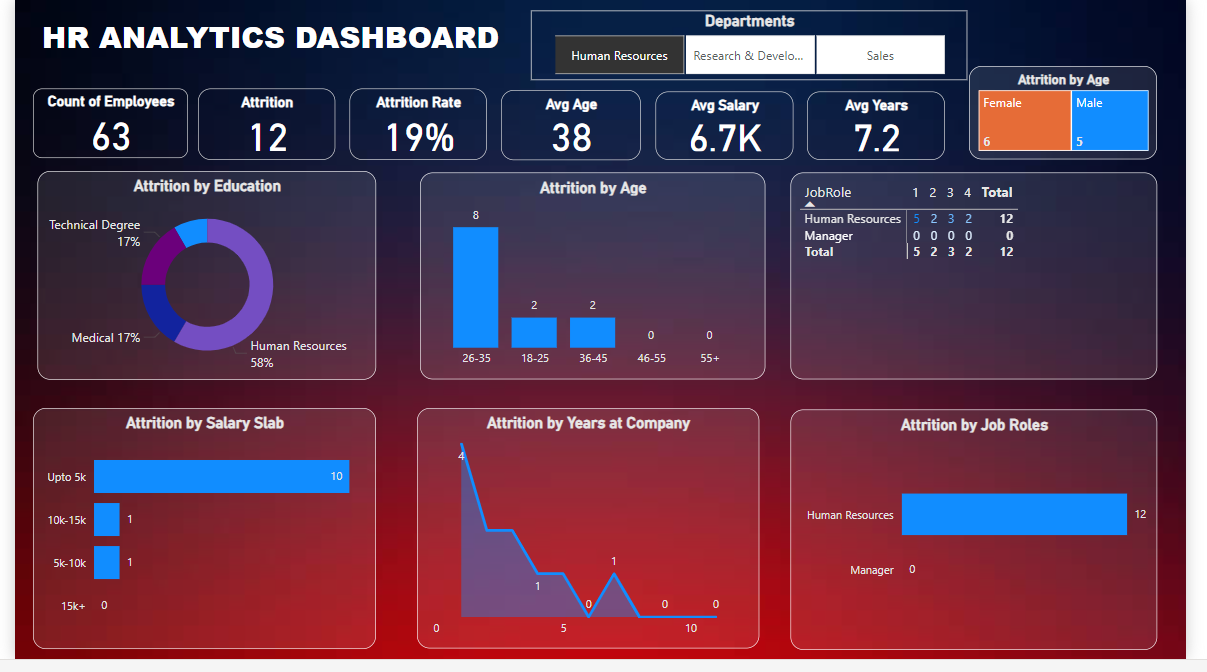

This screenshot's page, from the dashboard's own definition file:
{"tool":"powerbi","page":{"name":"Page 1","canvas":[1280,720],"ordinal":0},"visuals":[{"type":"card","title":"Count of Employees","fields":{"Values":["CountNonNull(HR_Analytics.EmpID)"]},"box":[19.5,97.3,169.3,75.9],"z":0},{"type":"card","title":"Attrition ","fields":{"Values":["Sum(HR_Analytics.AttritionCount)"]},"box":[200.5,97.3,149.9,77.9],"z":1000},{"type":"card","title":"Attrition Rate","fields":{"Values":["HR_Analytics.AttritionRate"]},"box":[365.9,97.3,149.9,77.9],"z":2000},{"type":"card","title":"Avg Age","fields":{"Values":["Avg(HR_Analytics.Age)"]},"box":[530.9,98.2,152.7,76.4],"z":3000},{"type":"card","title":"Avg Salary","fields":{"Values":["Avg(HR_Analytics.MonthlyIncome)"]},"box":[700,100,150.9,74.5],"z":4000},{"type":"card","title":"Avg Years","fields":{"Values":["Avg(HR_Analytics.YearsAtCompany)"]},"box":[865.5,100,150.9,74.5],"z":5000},{"type":"donutChart","title":"Attrition by Education","fields":{"Category":["HR_Analytics.EducationField"],"Y":["Sum(HR_Analytics.AttritionCount)"]},"box":[25.3,186.8,369.8,227.7],"z":6000},{"type":"columnChart","title":"Attrition by Age","fields":{"Category":["HR_Analytics.AgeGroup"],"Y":["Sum(HR_Analytics.AttritionCount)"]},"box":[441.8,188.8,377.6,225.8],"z":7000},{"type":"pivotTable","fields":{"Rows":["HR_Analytics.JobRole"],"Columns":["HR_Analytics.JobSatisfaction"],"Values":["Sum(HR_Analytics.AttritionCount)"]},"box":[846.6,188.8,400.9,225.8],"z":8000},{"type":"barChart","title":"Attrition by Salary Slab","fields":{"Category":["HR_Analytics.SalarySlab"],"Y":["Sum(HR_Analytics.AttritionCount)"]},"box":[20,445.5,374.5,263.6],"z":9000},{"type":"barChart","title":"Attrition by Job Roles","fields":{"Category":["HR_Analytics.JobRole"],"Y":["Sum(HR_Analytics.AttritionCount)"]},"box":[846.6,447.7,400.9,262.8],"z":10000},{"type":"areaChart","title":"Attrition by Years at Company","fields":{"Category":["HR_Analytics.YearsAtCompany"],"Y":["Sum(HR_Analytics.AttritionCount)"]},"box":[439.9,445.7,373.7,262.8],"z":11000},{"type":"treemap","title":"Attrition by Age","fields":{"Group":["HR_Analytics.Gender"],"Values":["Sum(HR_Analytics.AttritionCount)"]},"box":[1041.8,72.7,205.5,101.8],"z":12000},{"type":"slicer","title":"Departments","fields":{"Values":["HR_Analytics.Department"]},"box":[564.4,11.7,476.8,75.9],"z":13000},{"type":"textbox","box":[25.3,11.7,570.3,75.9],"z":14000}]}

Visuals, with their boxes in screenshot pixels (x1, y1, x2, y2), scaled from the page's 1280x720 canvas onto the 1207x672 screenshot:
"Count of Employees" card: box=[18, 91, 178, 162]
"Attrition " card: box=[189, 91, 330, 164]
"Attrition Rate" card: box=[345, 91, 486, 164]
"Avg Age" card: box=[501, 92, 645, 163]
"Avg Salary" card: box=[660, 93, 802, 163]
"Avg Years" card: box=[816, 93, 958, 163]
"Attrition by Education" donutChart: box=[24, 174, 373, 387]
"Attrition by Age" columnChart: box=[417, 176, 773, 387]
pivotTable - HR_Analytics.JobRole x HR_Analytics.JobSatisfaction: box=[798, 176, 1176, 387]
"Attrition by Salary Slab" barChart: box=[19, 416, 372, 662]
"Attrition by Job Roles" barChart: box=[798, 418, 1176, 663]
"Attrition by Years at Company" areaChart: box=[415, 416, 767, 661]
"Attrition by Age" treemap: box=[982, 68, 1176, 163]
"Departments" slicer: box=[532, 11, 982, 82]
textbox: box=[24, 11, 562, 82]
